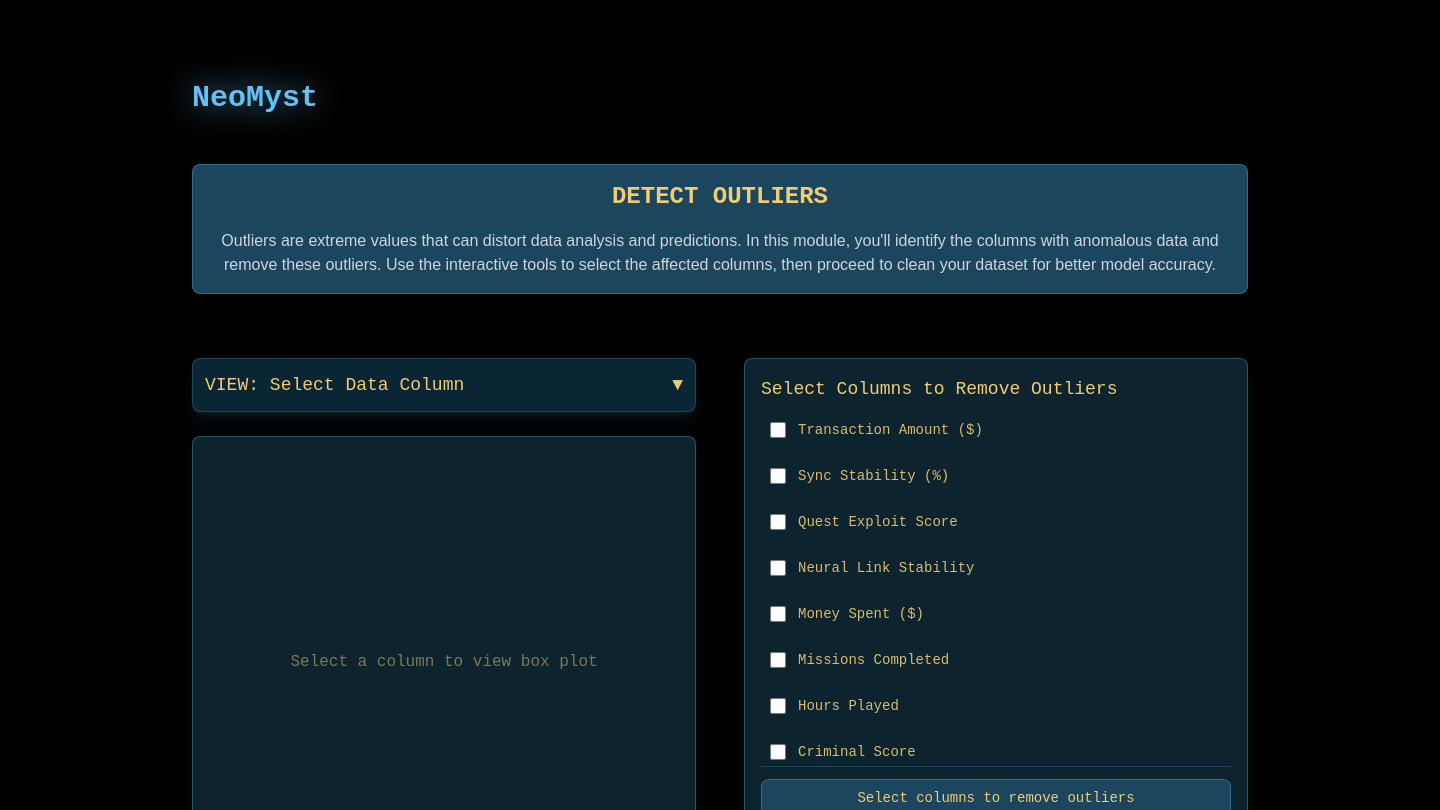
it: OutlierDetection Component › shows correct message based on selected columns
The image size is (1440, 810).
Expected: the text "Select columns to remove outliers" is shown, [857,790,1135,806]
// Select first column
Click the checkbox next to "Quest Exploit Score" at (778, 522), box [770,514,786,530]
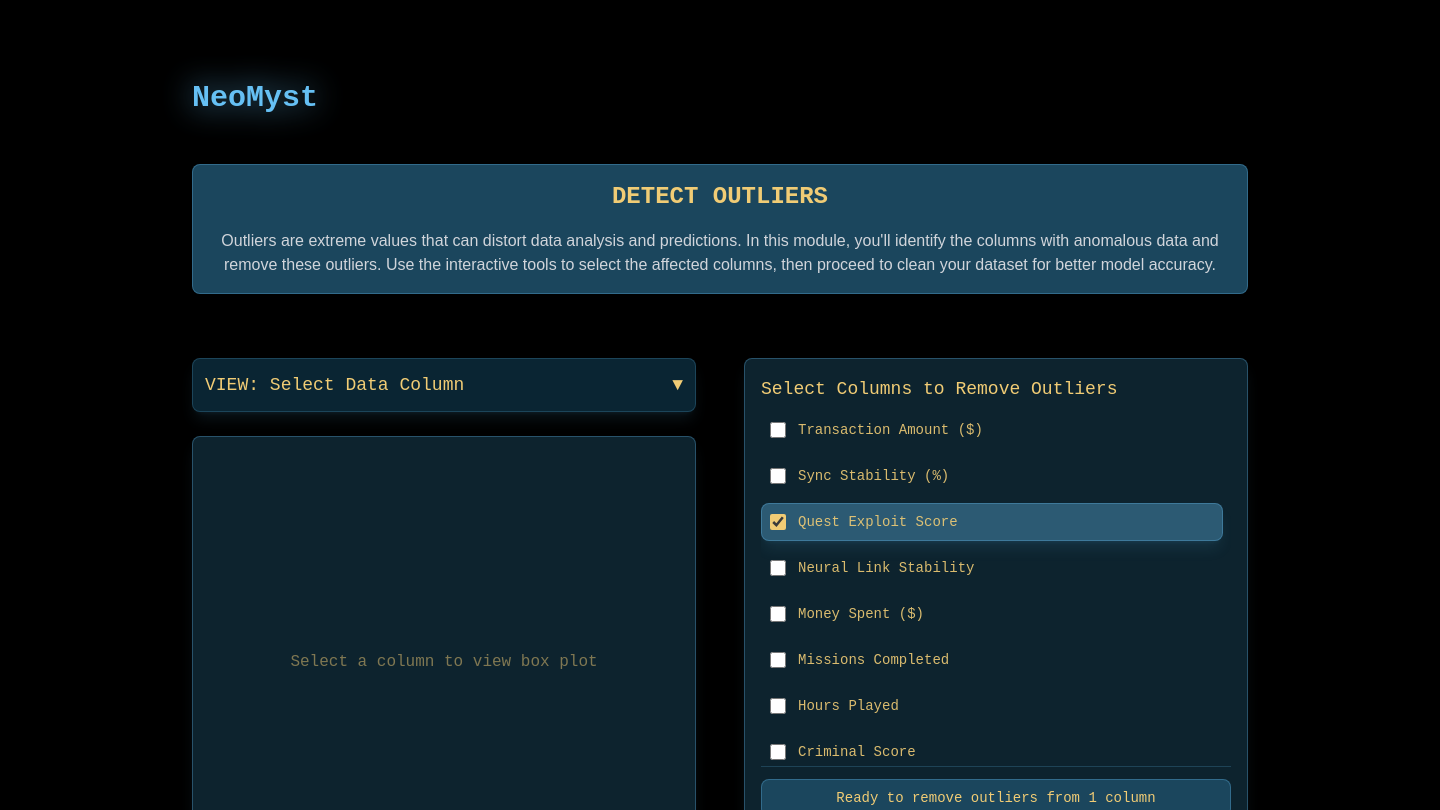
Expected: the text "Ready to remove outliers from 1 column" is shown, [836,790,1156,806]
// Select second column
Click the checkbox next to "Money Spent ($)" at (778, 614), box [770,606,786,622]
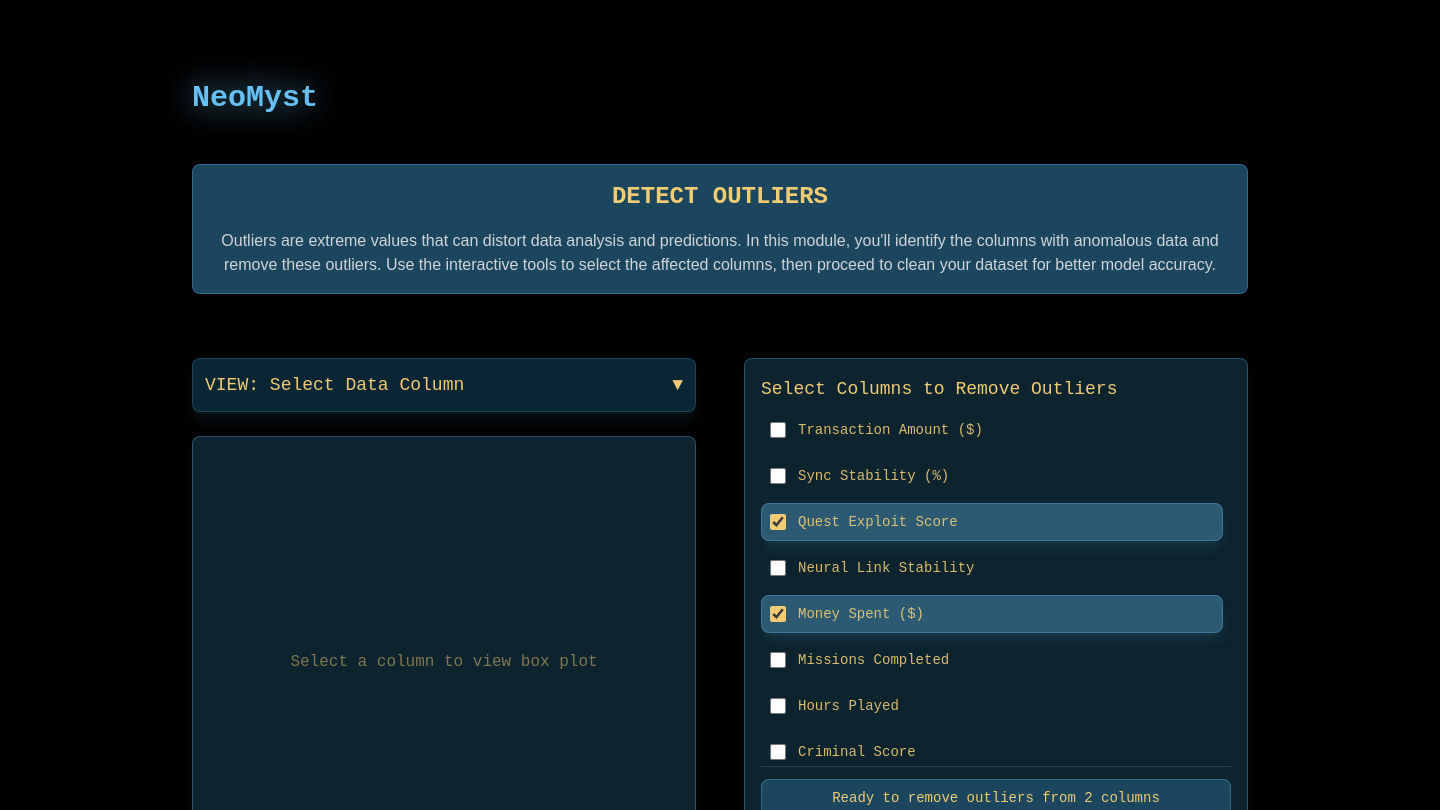
Expected: the text "Ready to remove outliers from 2 columns" is shown, [832,790,1160,806]
